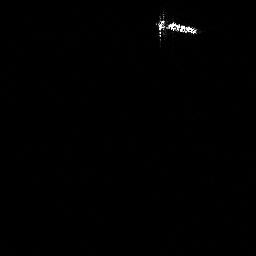ship: (155, 14, 197, 40)
